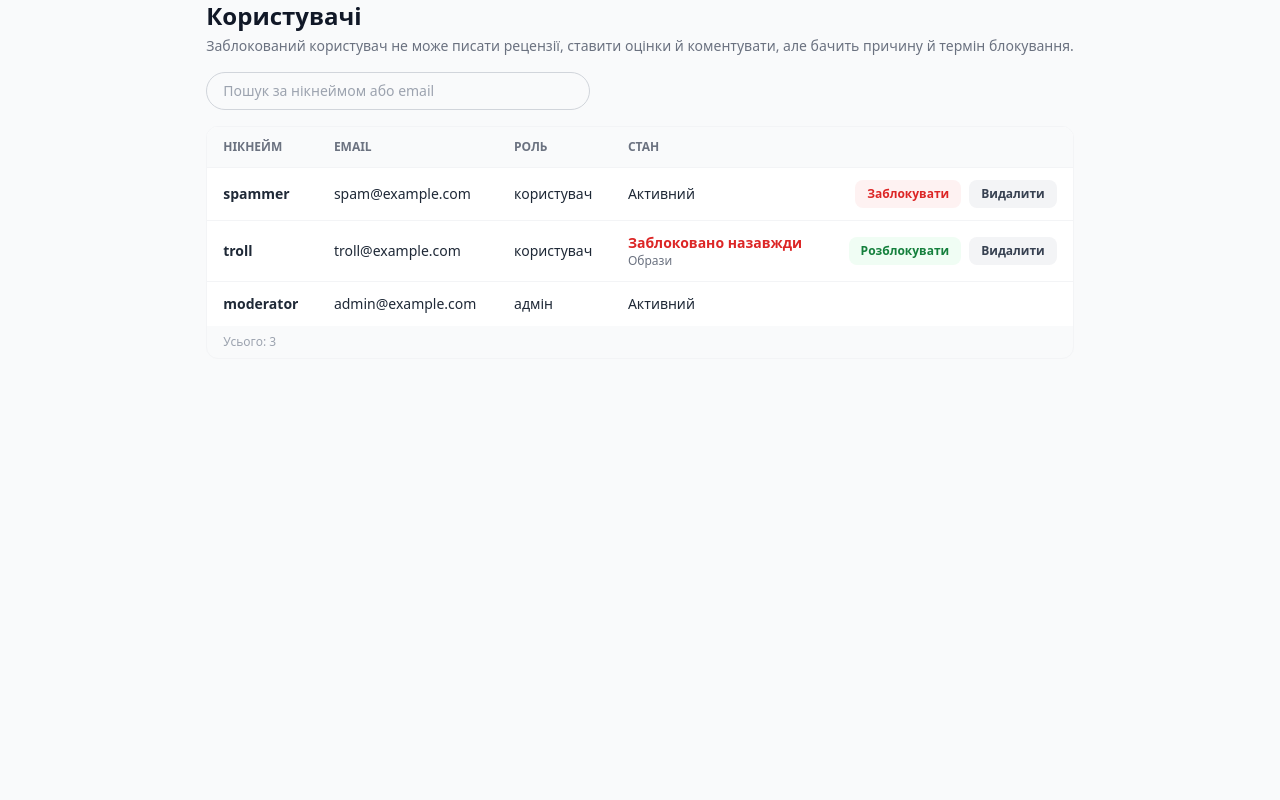
Scenario: AdminUsers (FR-009, US-006) › bans a user temporarily with a message and reloads the list
Click the button with aria-label "Заблокувати spammer" at point(908, 194), box [855,180,961,208]
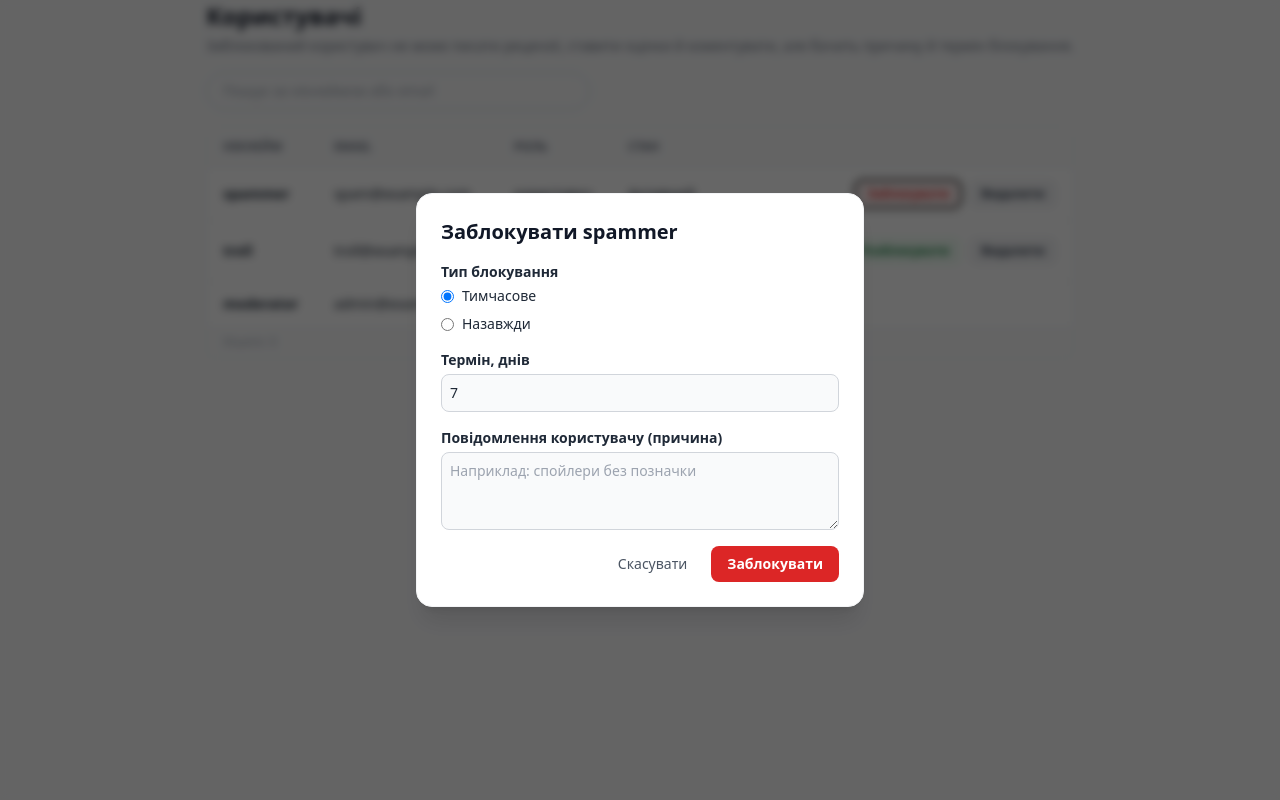
Replace the text in the number field labelled "Термін, днів" with "14" at point(640, 393), box [441,374,839,412]
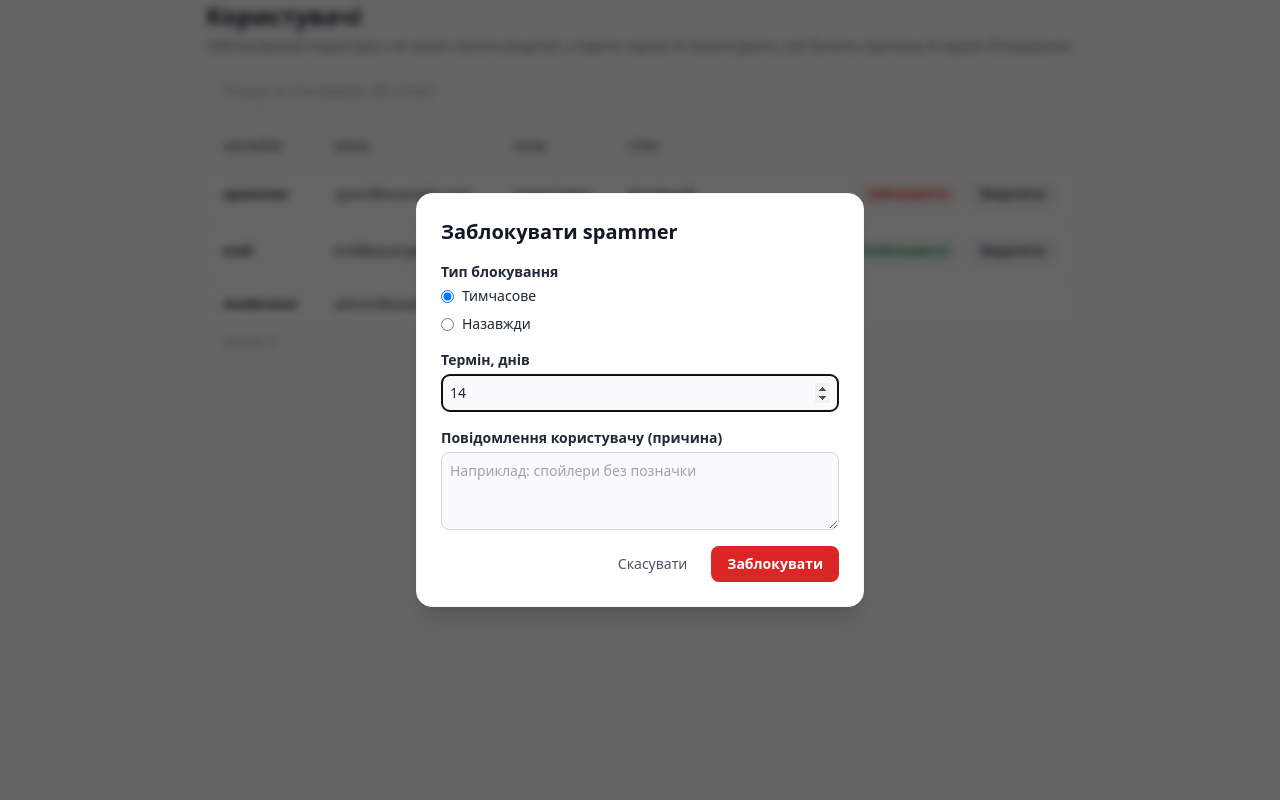
Type "Спам у коментарях" into the text box labelled "Повідомлення користувачу (причина)" at point(640, 491), box [441,452,839,530]
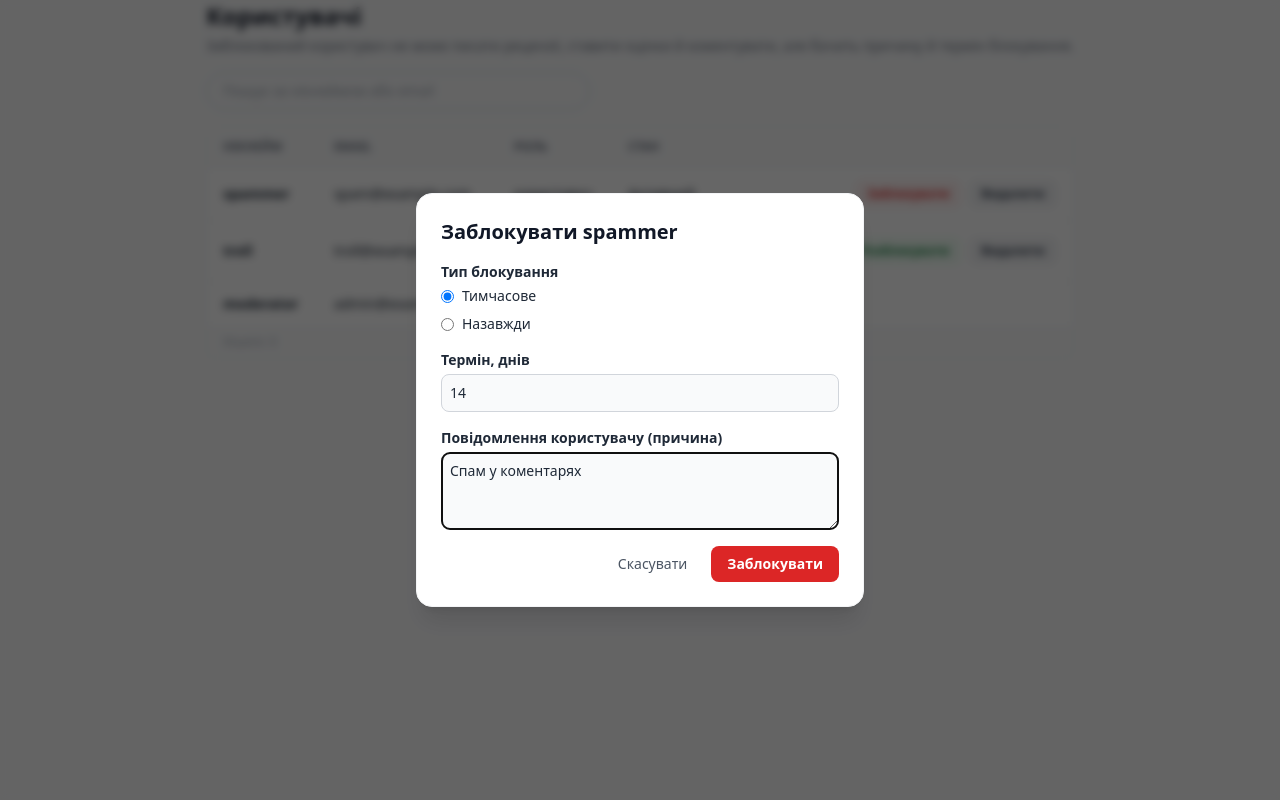
Click the button "Заблокувати" at point(775, 564), box [711,546,839,582]
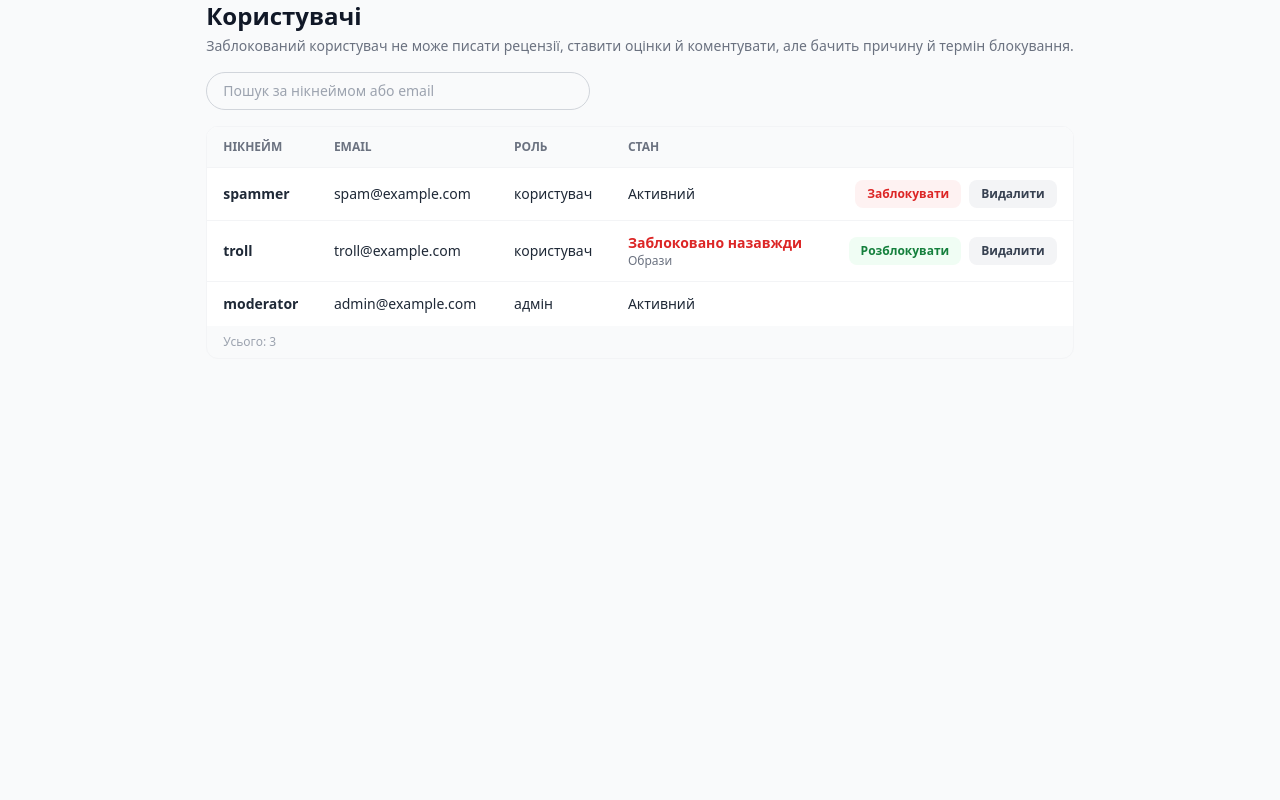
Expected: the dialog is gone
